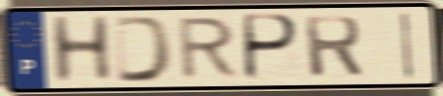D: (113, 14, 177, 84)
H: (47, 13, 116, 86)
I: (399, 10, 416, 81)
P: (241, 12, 302, 83)
R: (301, 13, 366, 80), (177, 15, 242, 82)
